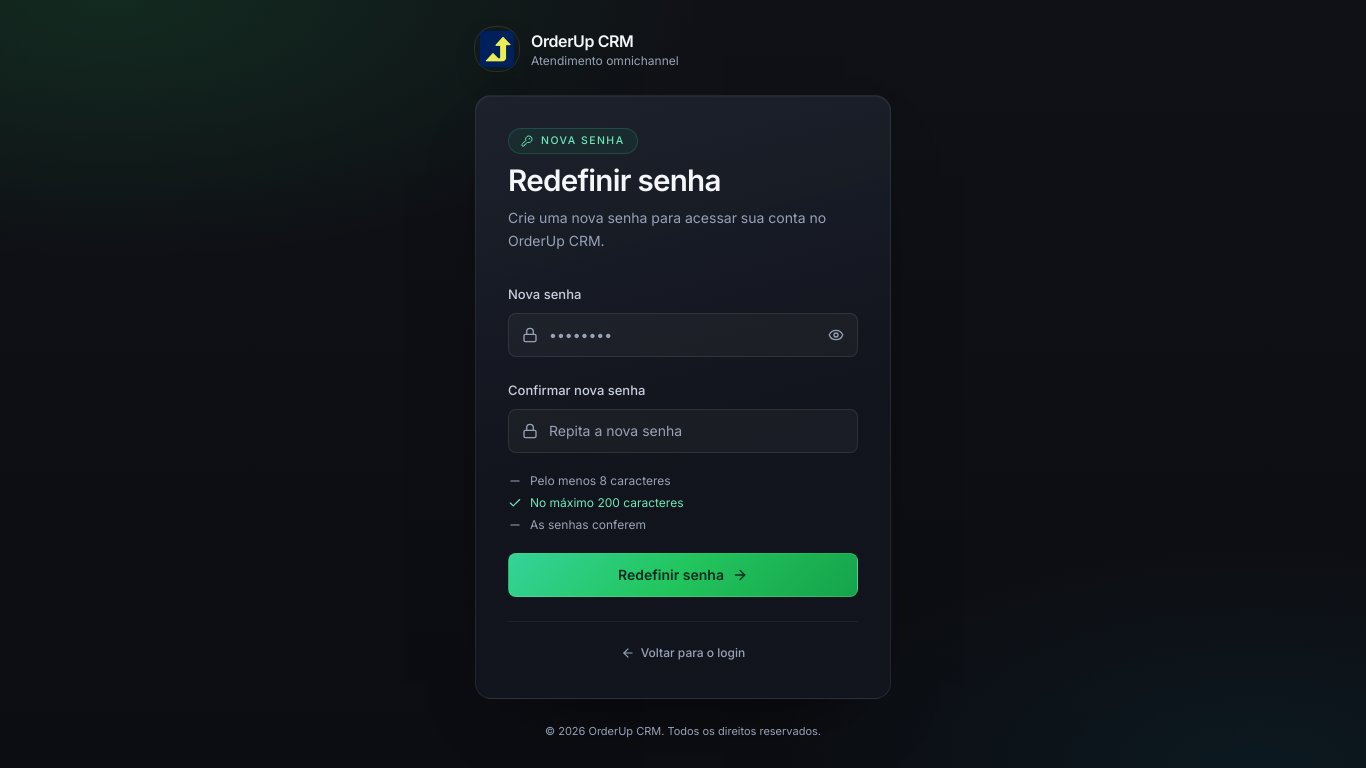
Scenario: ResetPasswordPage › enforces the existing minimum password length
Type "short" into the password field labelled "Nova senha" at (683, 335), box [508,313,858,357]
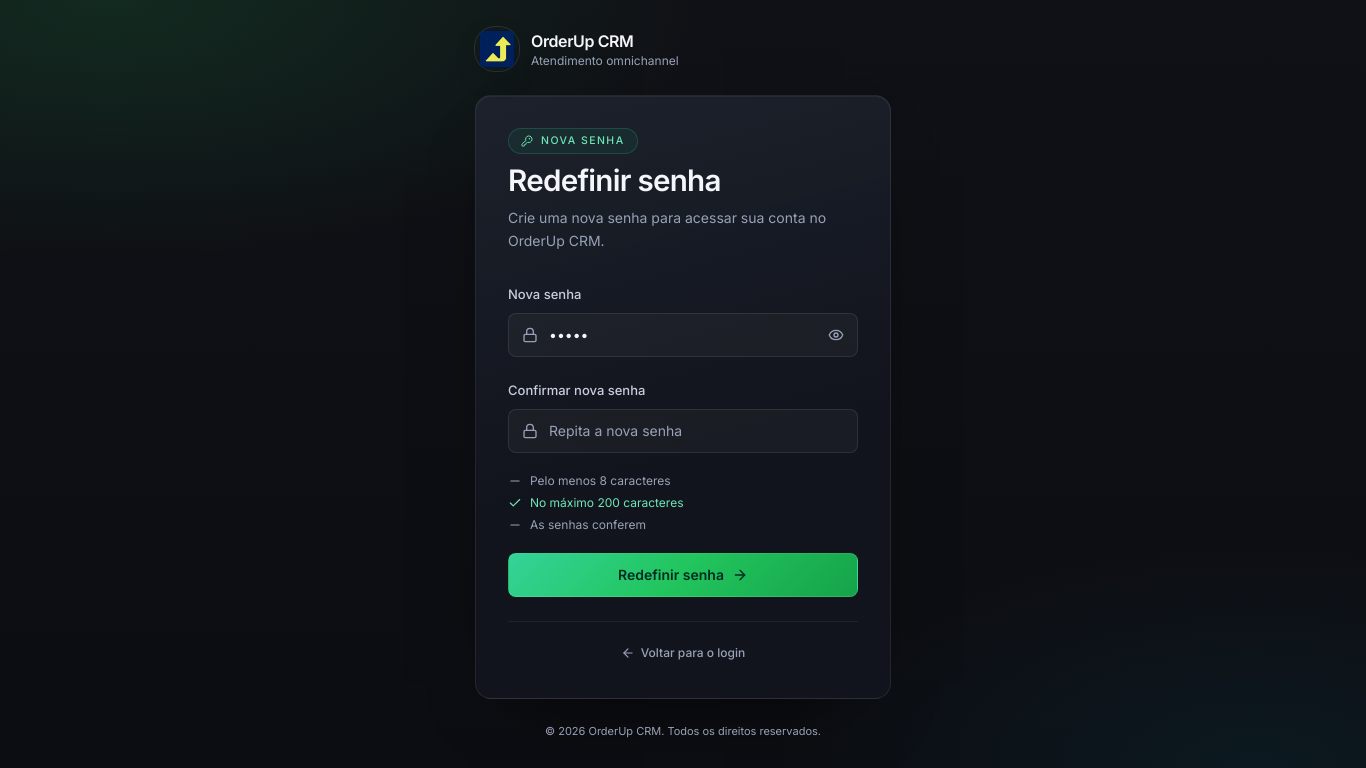
Type "short" into the password field labelled "Confirmar nova senha" at (683, 431), box [508,409,858,453]
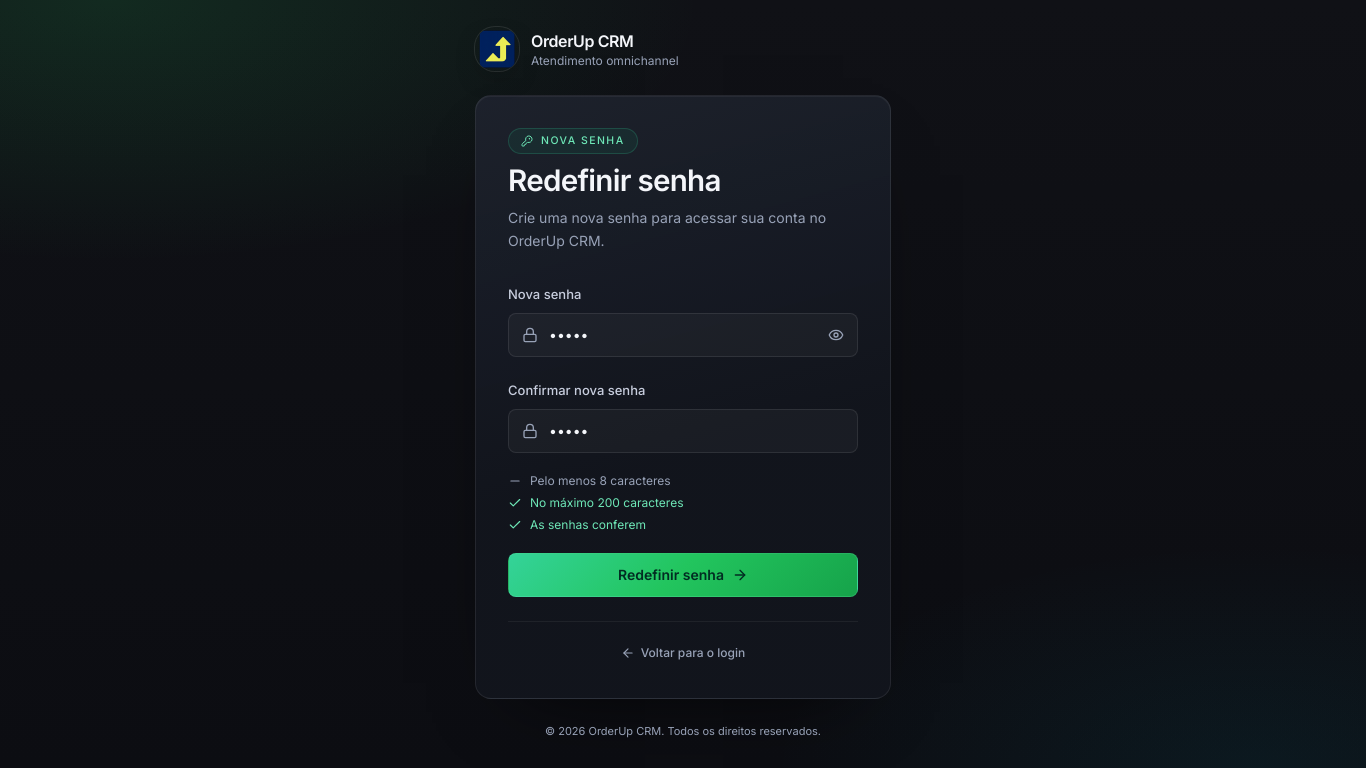
Click the button "Redefinir senha" at (683, 575), box [508,553,858,597]
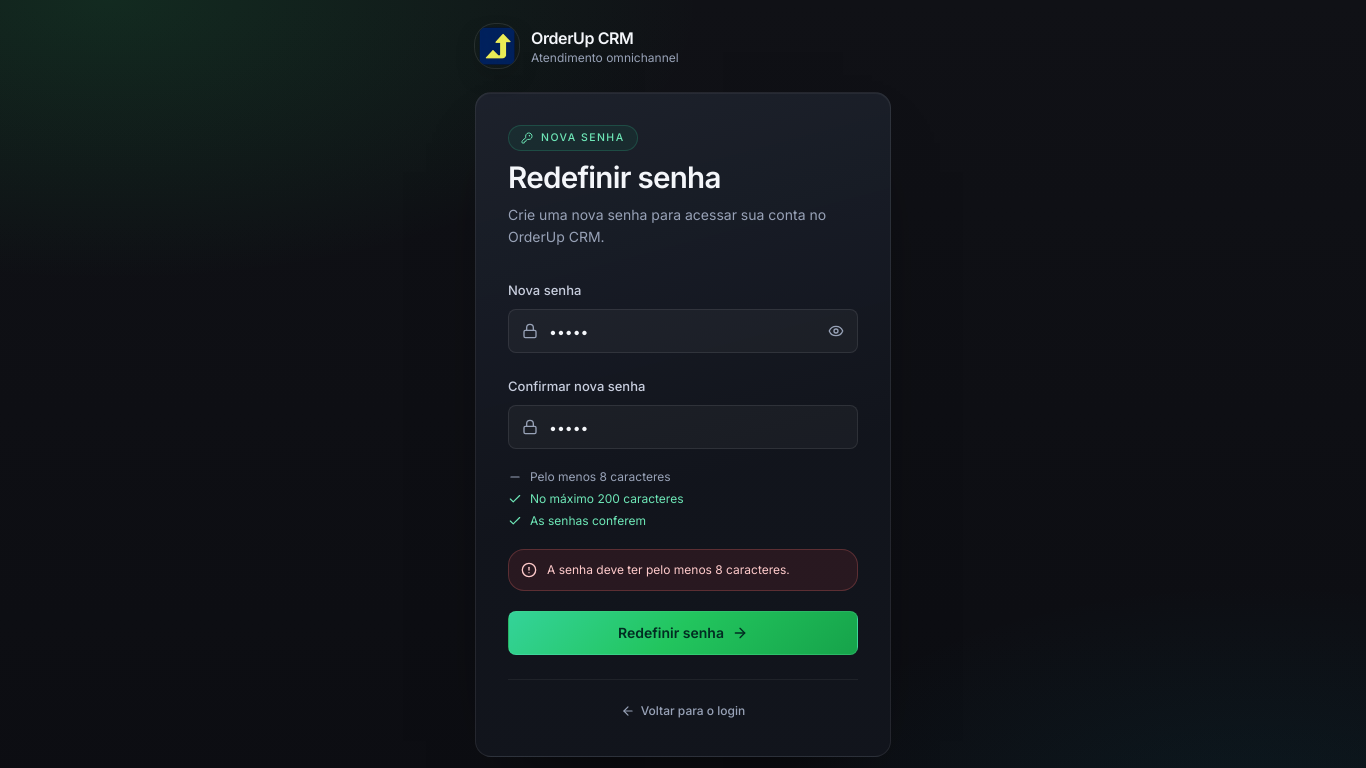
Expected: the message shows "pelo menos 8 caracteres", [547,562,790,577]
